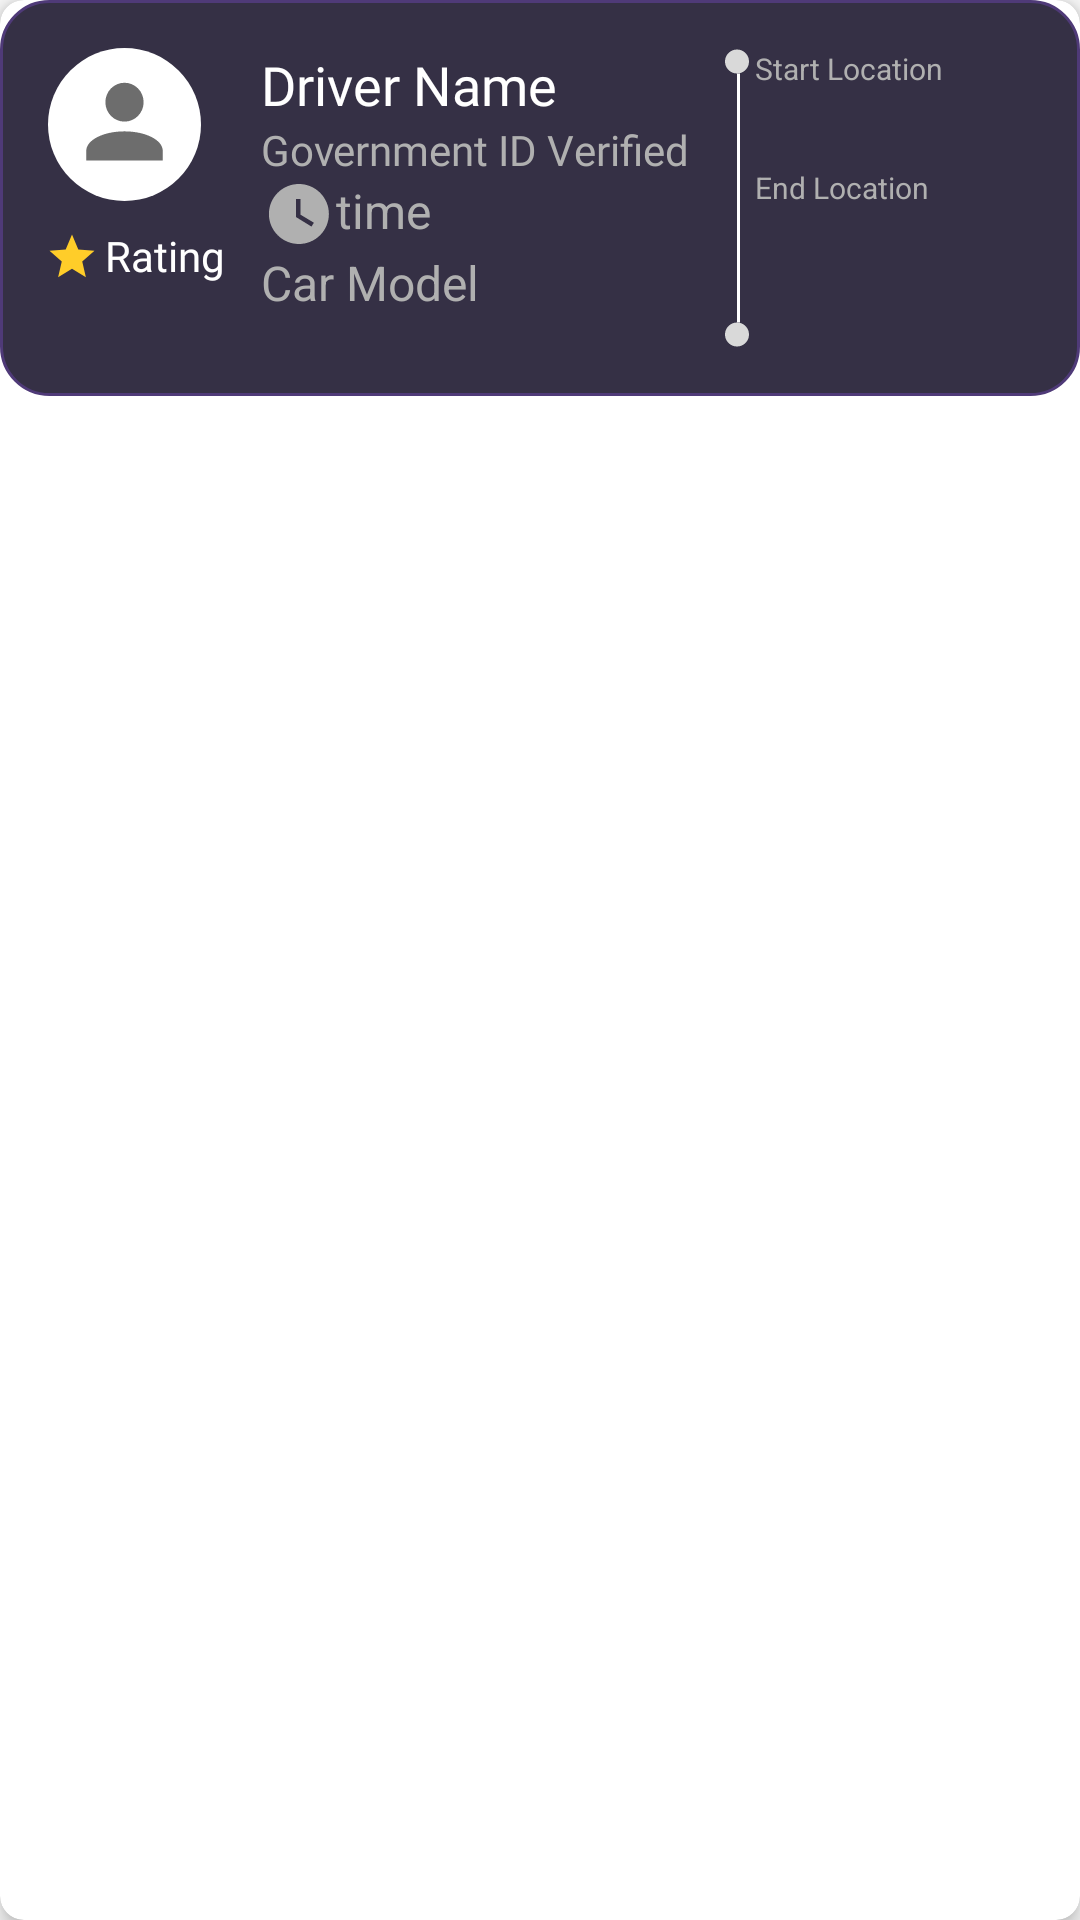

Screen size 1080x1920. Icon name, then its box in pixels as (x1, y1, x2, y2):
profile: (48, 48, 201, 201)
